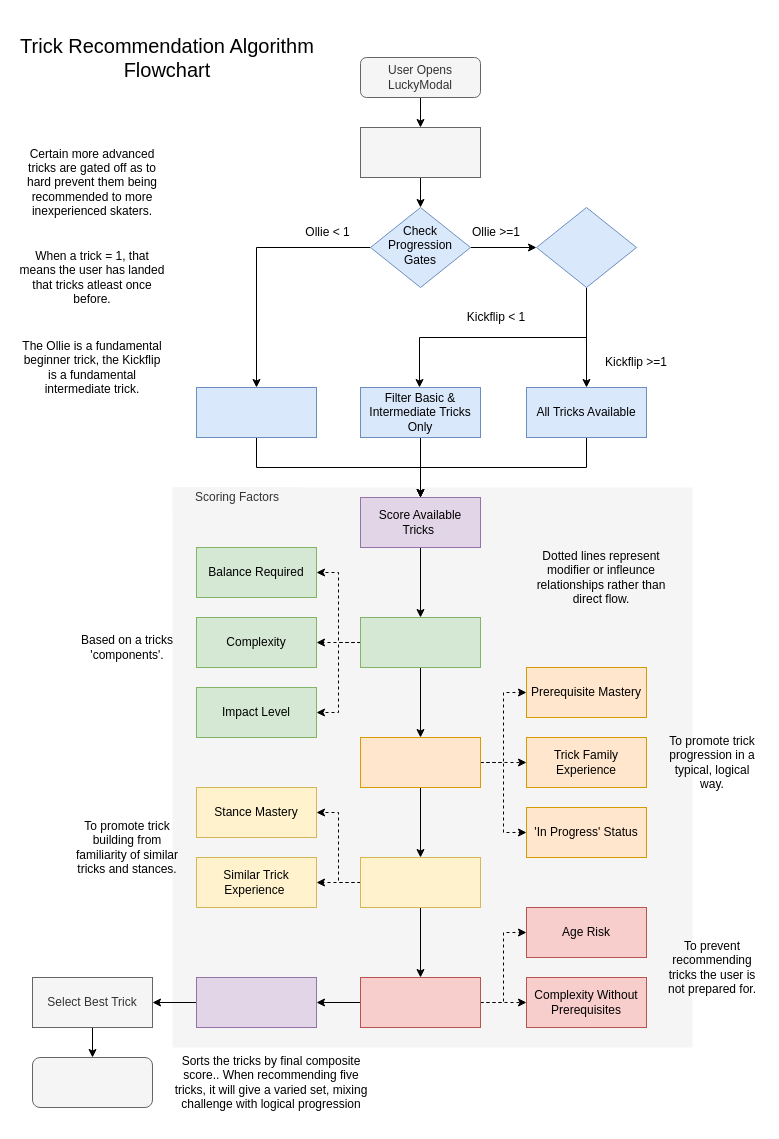
This 779x1139 diagram has some shape labels left out. The centre of each missing label's shape, as x and y in pixels:
"Apply Risk Modifiers" belongs at (420,1002).
"Apply Slot Priority Weights" belongs at (256,1002).
"Calculate Base Difficulty Score" belongs at (420,642).
"Calculate Familiarity Score" belongs at (420,882).
"Calculate Progression Score" belongs at (420,762).
"Check Further Gates" belongs at (586,247).
"Display Recommendations" belongs at (92,1082).
"Filter Basic Tricks Only" belongs at (256,412).
"Load User Data & Trick States" belongs at (420,152).
